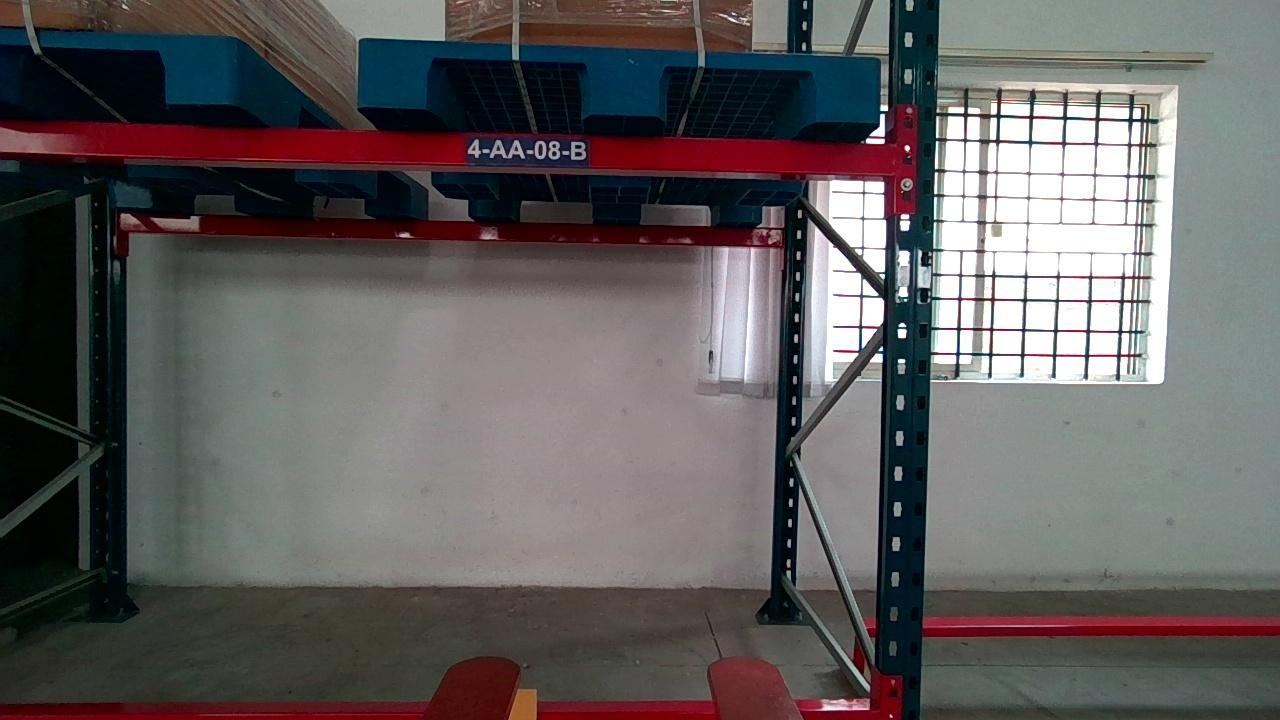h_rack: (0, 118, 900, 176)
small_pallet: (360, 35, 879, 123), (0, 26, 239, 103)
